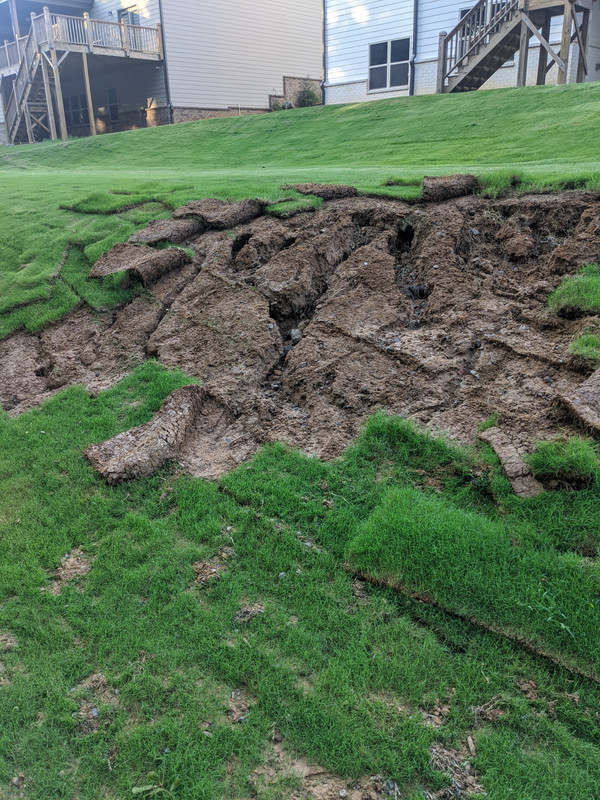dirt: (22, 196, 583, 481)
grass: (3, 481, 596, 793), (6, 111, 307, 200), (311, 90, 596, 180), (3, 208, 133, 322)
